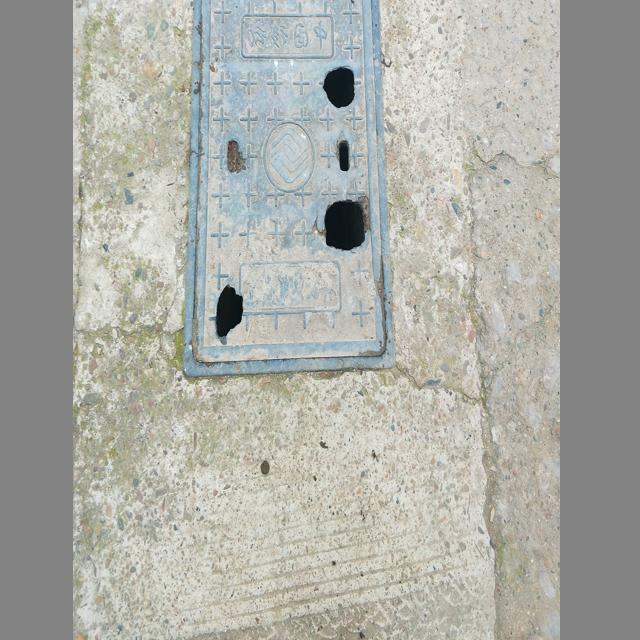broke: (180, 0, 394, 380)
